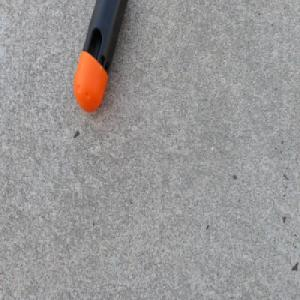PlasticPart: (72, 0, 127, 113)
